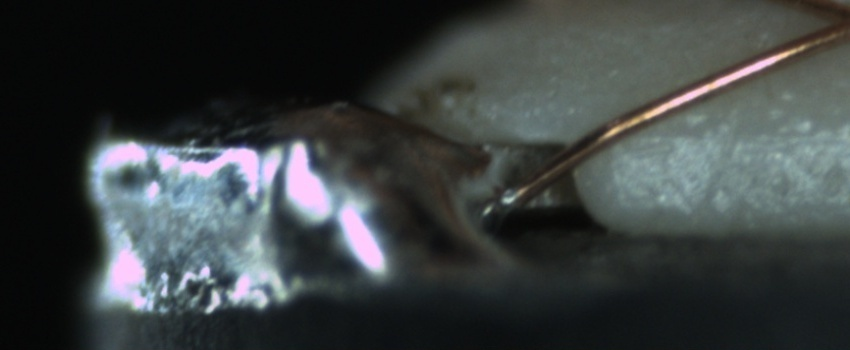CL: (808, 1, 850, 45)
DL: (633, 107, 848, 167)
